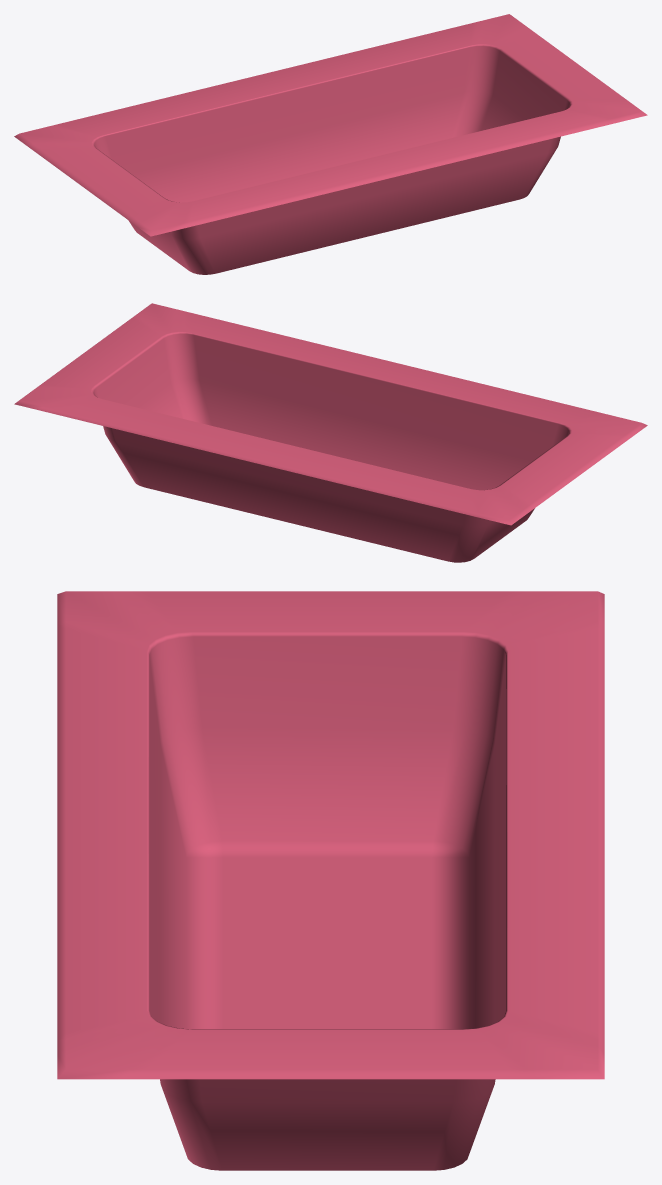
Rendered from Bathtub.fbx.
3 views of the same model, one above another, from view 1: azimuth 30°, elevation 25°; view 2: azimuth 150°, elevation 25°; view 3: azimuth 270°, elevation 25° (orthographic). The views are drawn at different scales.
Visible parts, largest first — view 1: Bathtub; view 2: Bathtub; view 3: Bathtub.
Boxes of the visible parts, box(x1,y1,x2,y2) form: Bathtub: box(14, 14, 647, 274); Bathtub: box(14, 303, 647, 562); Bathtub: box(57, 591, 604, 1170).
Bounding box in the file's own units: 1981 × 334 × 944.
